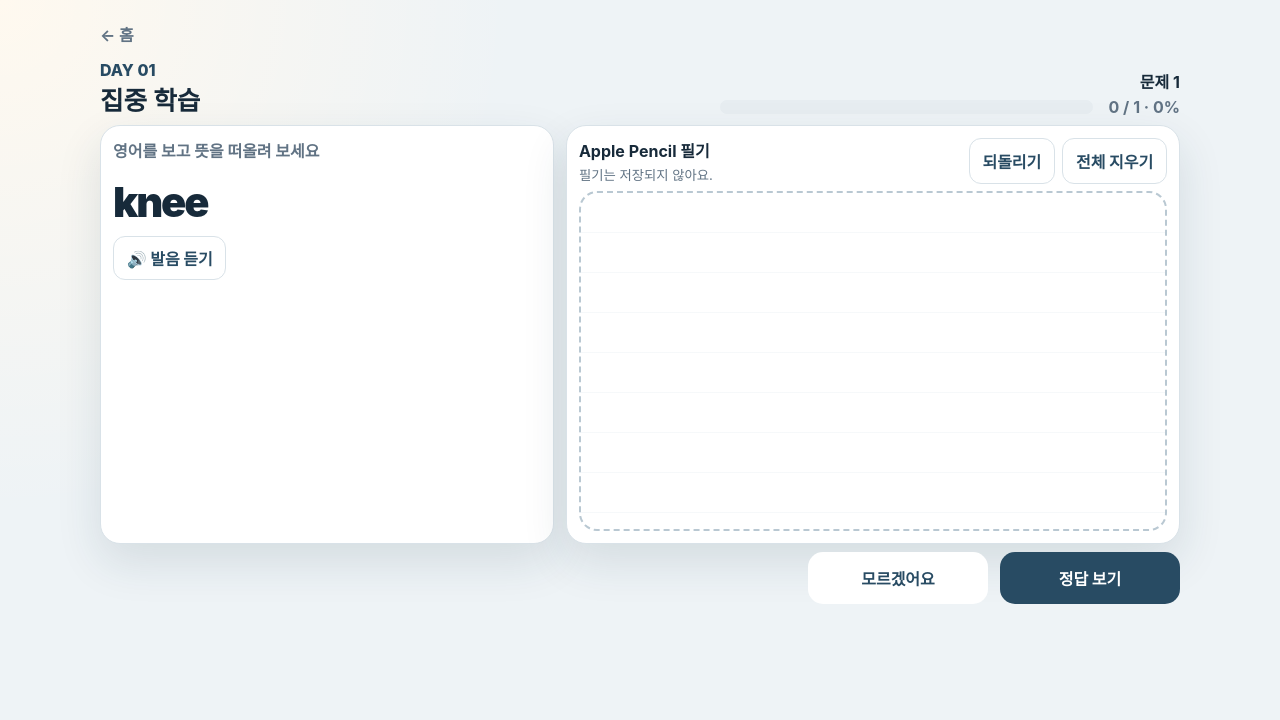
it: hides pronunciation when the same word returns in a later study item
Click the button "🔊 발음 듣기" at (170, 258), box left=113, top=236, right=226, bottom=280
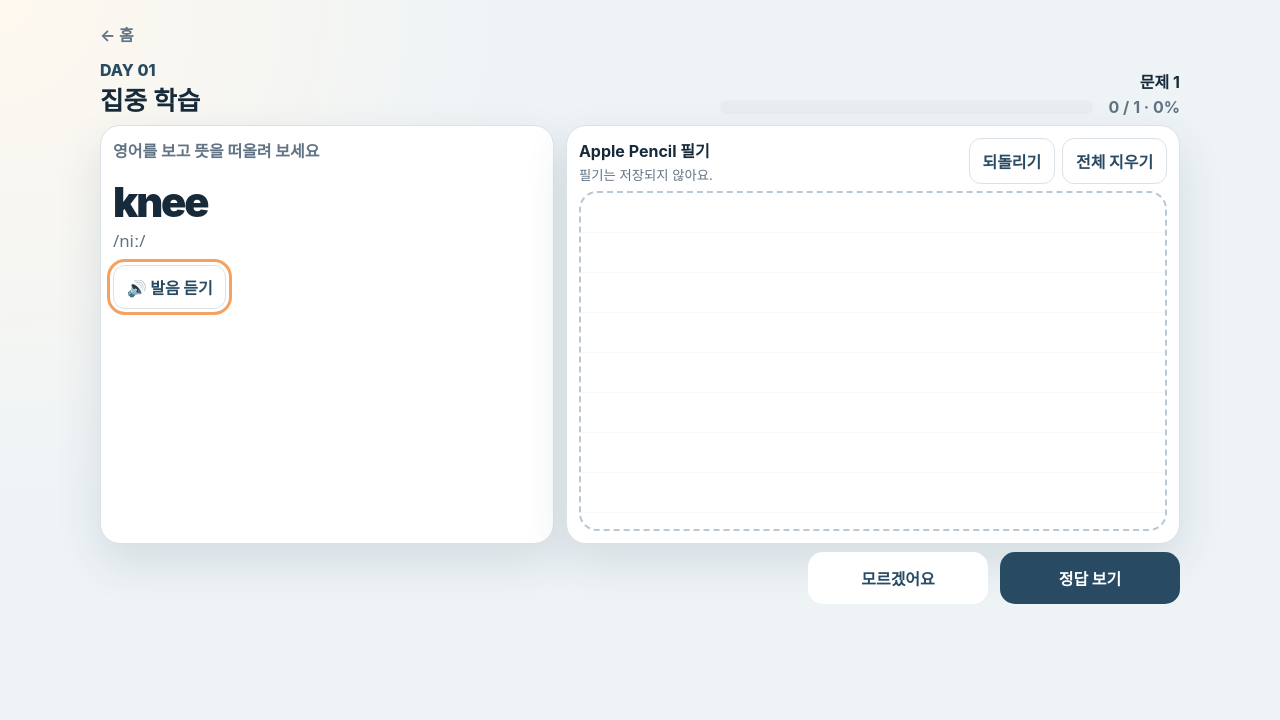
Now the text "/niː/" is shown, box left=113, top=229, right=146, bottom=252
Click the button with class "button--secondary" at (898, 578), box left=808, top=552, right=988, bottom=604
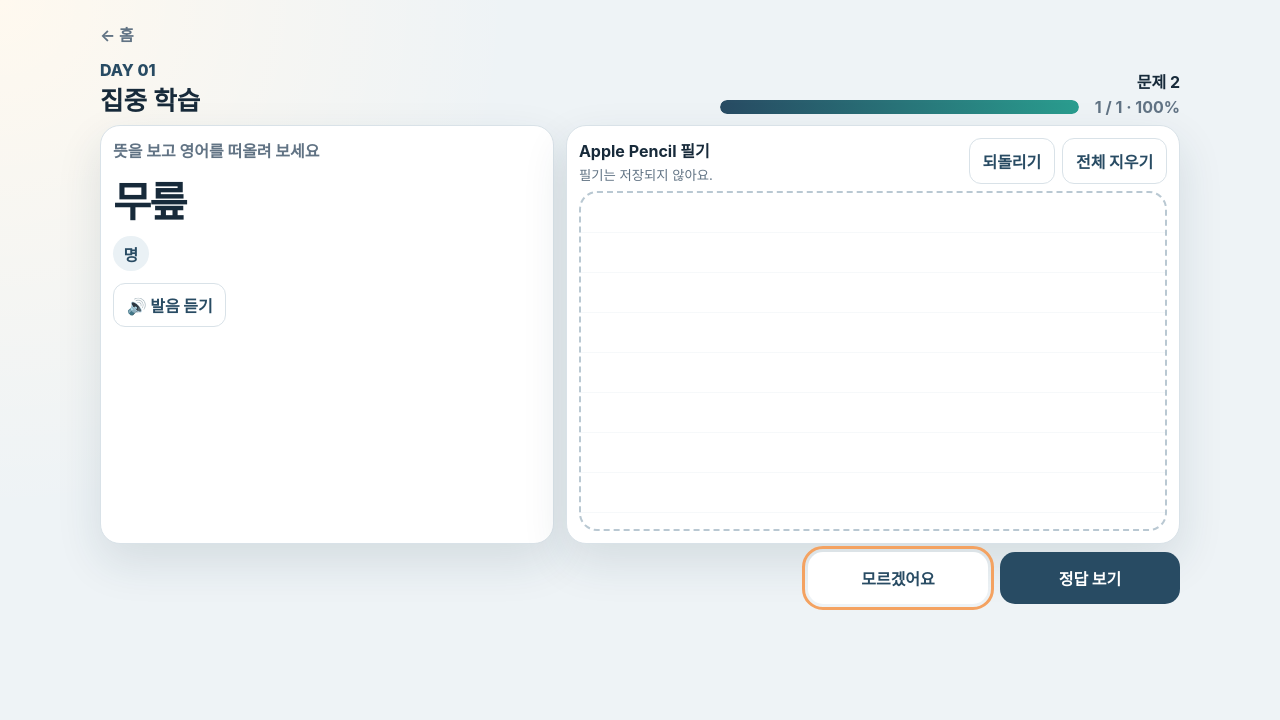
Now the text "/niː/" is gone
Now the text "무릎" is shown, box left=113, top=177, right=185, bottom=227
